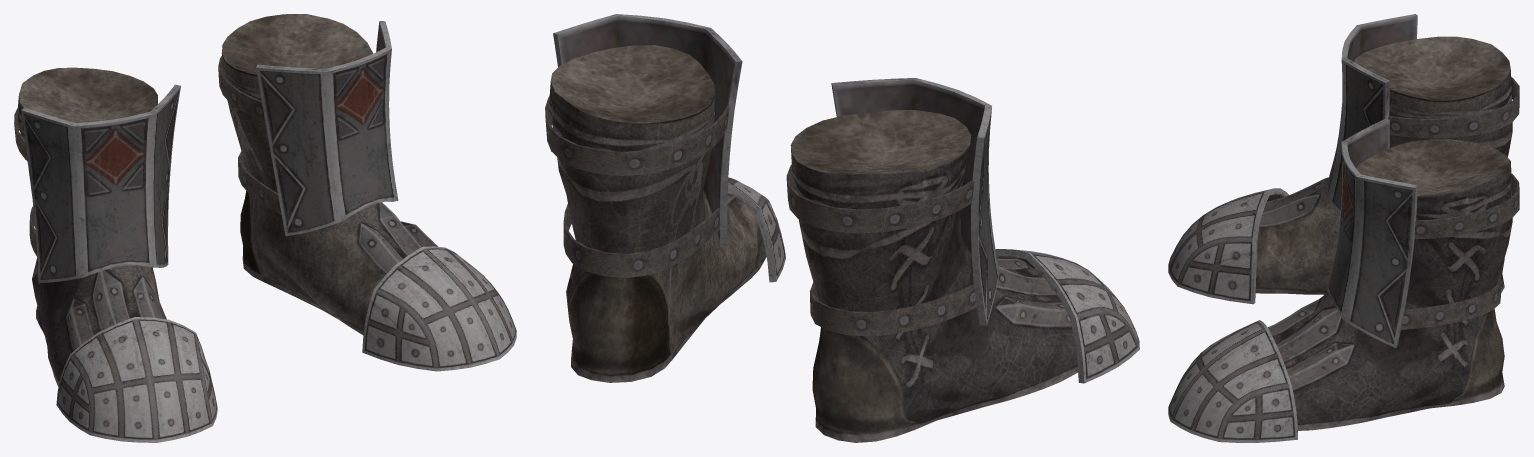
Rendered from sk_dwarf_iron_boots_heavy_b3.fbx.
3 renders of one model, left to right at view 1: azimuth 30°, elevation 25°; view 2: azimuth 150°, elevation 25°; view 3: azimuth 270°, elevation 25°, orthographic. The views are drawn at different scales.
Visible parts, largest first — view 1: sk_dwarf_iron_boots_heavy_b3.0, sk_dwarf_iron_boots_heavy_b3.1; view 2: sk_dwarf_iron_boots_heavy_b3.0, sk_dwarf_iron_boots_heavy_b3.1; view 3: sk_dwarf_iron_boots_heavy_b3.0, sk_dwarf_iron_boots_heavy_b3.1.
Part boxes in pixels (bbox=[...]): sk_dwarf_iron_boots_heavy_b3.0: bbox=[17, 14, 516, 442]; sk_dwarf_iron_boots_heavy_b3.1: bbox=[14, 56, 281, 256]; sk_dwarf_iron_boots_heavy_b3.0: bbox=[548, 14, 1139, 442]; sk_dwarf_iron_boots_heavy_b3.1: bbox=[545, 96, 976, 336]; sk_dwarf_iron_boots_heavy_b3.0: bbox=[1168, 14, 1512, 442]; sk_dwarf_iron_boots_heavy_b3.1: bbox=[1388, 77, 1519, 329].
Size of the model in its own units: 0.5738 by 0.4157 by 0.3154.
Materials: 2 (2 with a texture image).
